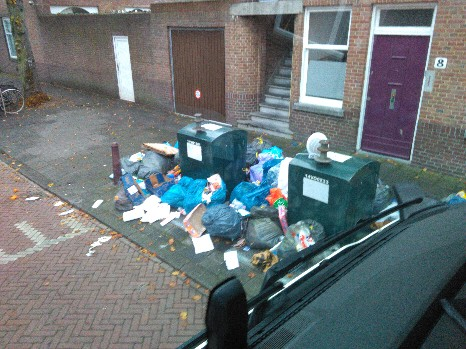Container: (293, 145, 361, 214), (190, 118, 248, 179)
Rest: (202, 191, 235, 246), (181, 193, 225, 231), (136, 139, 184, 167), (236, 169, 271, 206), (132, 164, 161, 208), (248, 218, 285, 244), (160, 174, 195, 200), (265, 142, 290, 174)
